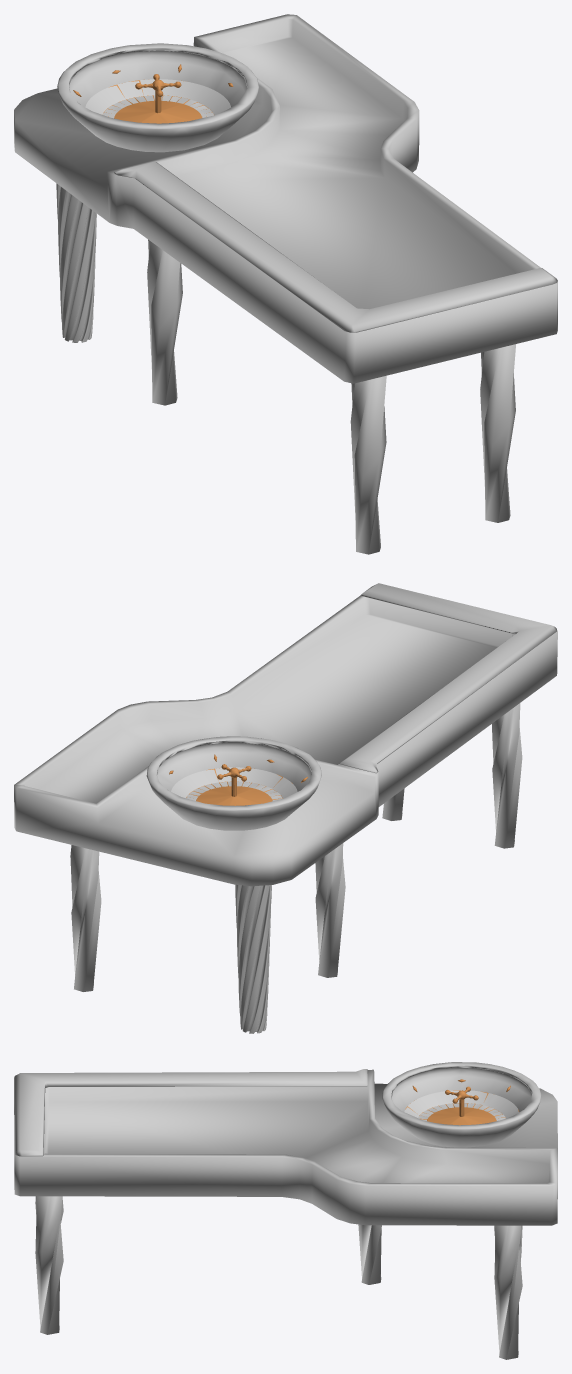
The model's file is roulette-static.obj.
3 renders of one model, top to bottom at view 1: azimuth 30°, elevation 25°; view 2: azimuth 150°, elevation 25°; view 3: azimuth 270°, elevation 25°, orthographic. The views are drawn at different scales.
Visible parts, largest first — view 1: hand_rest, wheel_housing, Teller; view 2: hand_rest, wheel_housing, Teller; view 3: hand_rest, wheel_housing, Teller.
Boxes of the visible parts, bbox=[...] form: hand_rest: bbox=[14, 14, 557, 554]; wheel_housing: bbox=[57, 43, 259, 152]; Teller: bbox=[85, 74, 230, 123]; hand_rest: bbox=[14, 583, 557, 1033]; wheel_housing: bbox=[146, 736, 321, 830]; Teller: bbox=[171, 764, 297, 805]; hand_rest: bbox=[14, 1069, 557, 1359]; wheel_housing: bbox=[382, 1062, 541, 1147]; Teller: bbox=[404, 1086, 519, 1125].
Size of the model in its own units: 141 by 119 by 278.
